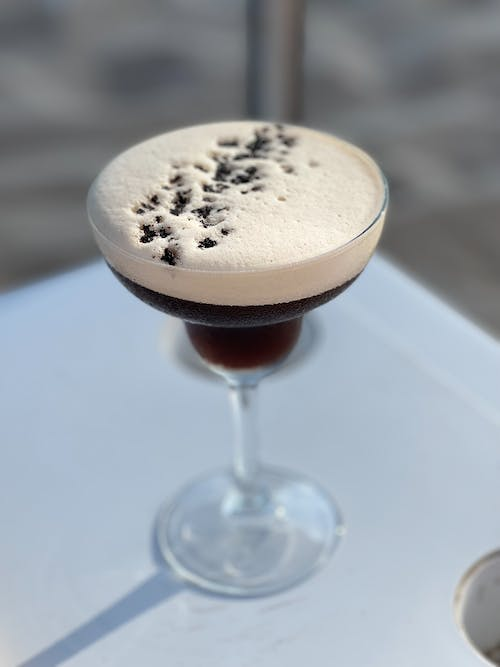alcohol: (84, 120, 390, 598)
